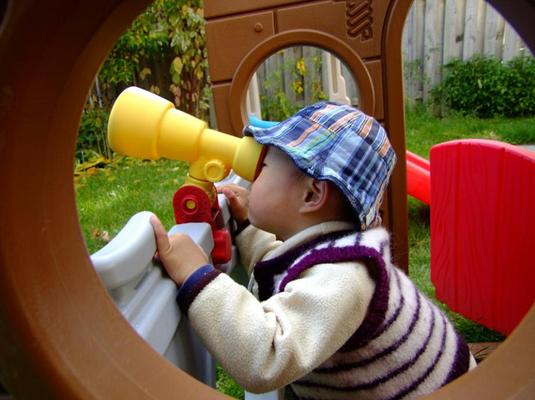person: (151, 100, 478, 400)
